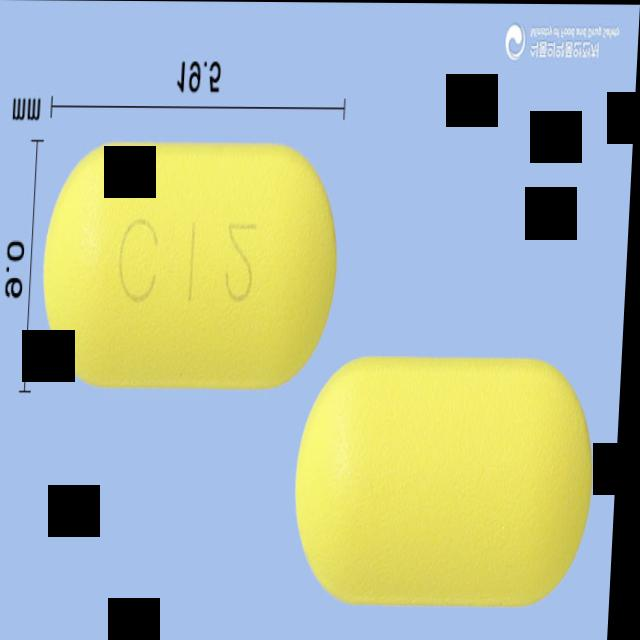Clomycin: (295, 357, 602, 608), (41, 142, 345, 392)
